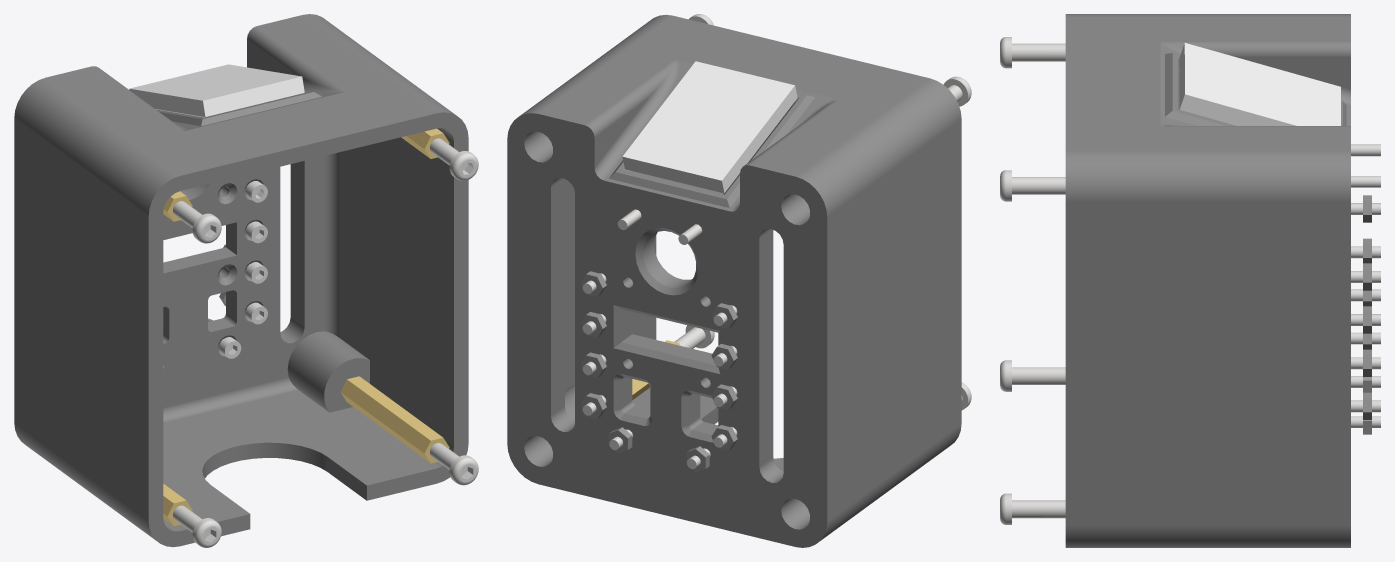
The model's file is ensambleBaseBrazo.dae.
3 renders of one model, left to right at view 1: azimuth 30°, elevation 25°; view 2: azimuth 150°, elevation 25°; view 3: azimuth 270°, elevation 25°, orthographic. The views are drawn at different scales.
Visible parts, largest first — view 1: ensambleBaseBrazo; view 2: ensambleBaseBrazo; view 3: ensambleBaseBrazo.
Part boxes in pixels (x1,y1,x2,y2): ensambleBaseBrazo: (14, 14, 478, 547); ensambleBaseBrazo: (507, 14, 971, 547); ensambleBaseBrazo: (1000, 14, 1380, 547).
Bounding box in the file's own units: 66 × 64 × 75.93.
